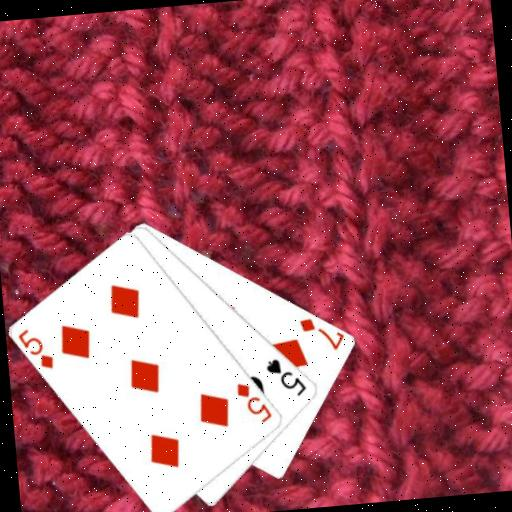5D: (15, 324, 57, 374), (233, 378, 275, 427)
5S: (263, 353, 309, 401)
7D: (297, 312, 347, 355)
